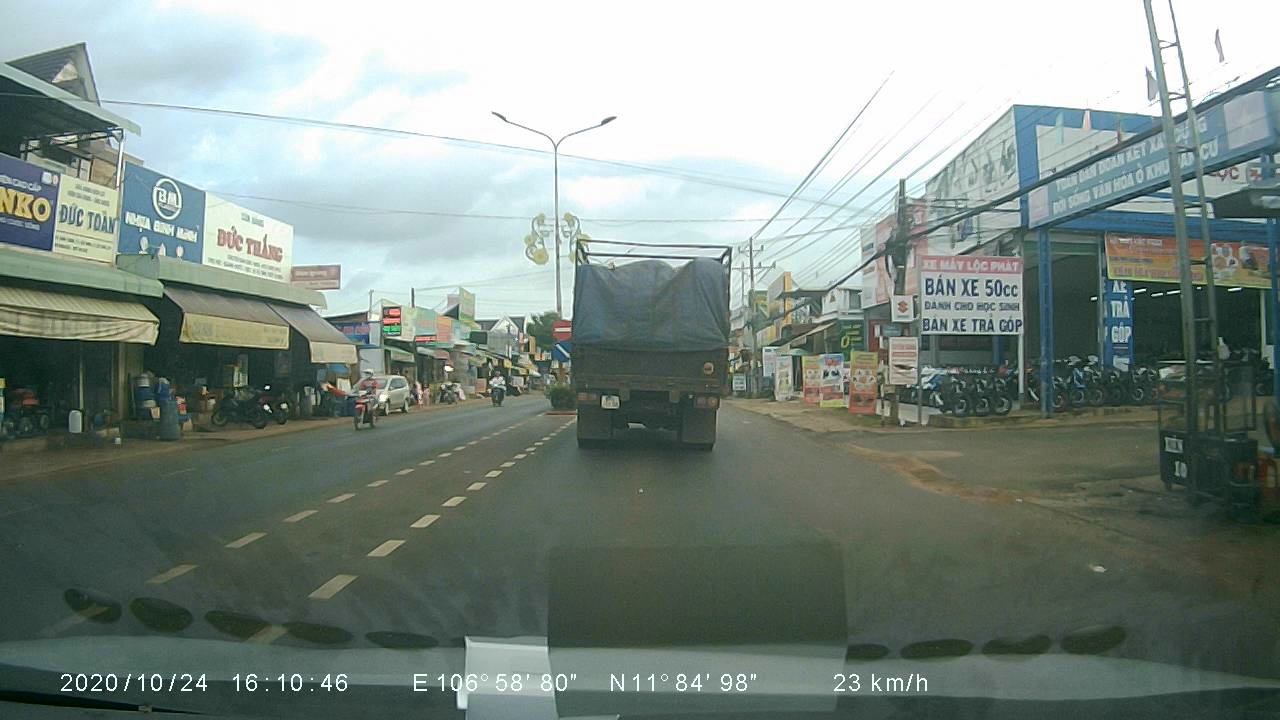Cam di nguoc chieu: (551, 315, 573, 341)
Huong di phai re phai: (551, 342, 572, 364)
